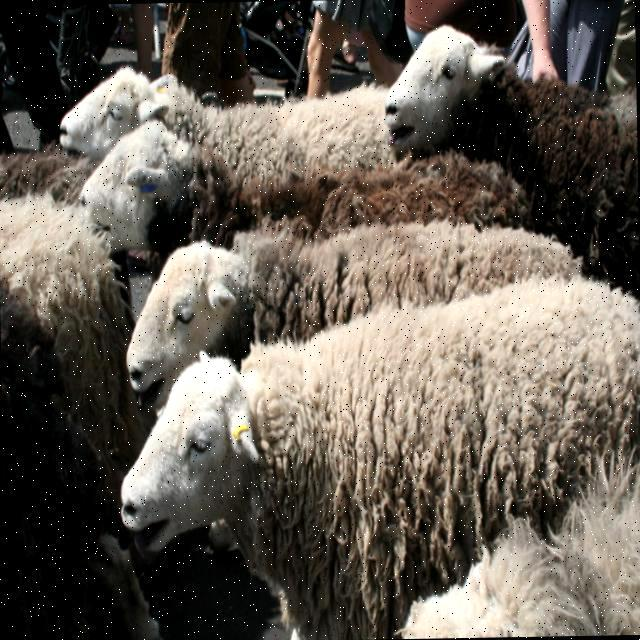sheep: (119, 272, 640, 637), (79, 114, 527, 266), (387, 24, 639, 293), (1, 278, 159, 640), (399, 468, 640, 635), (0, 191, 136, 466), (62, 66, 394, 178), (0, 143, 99, 203)
